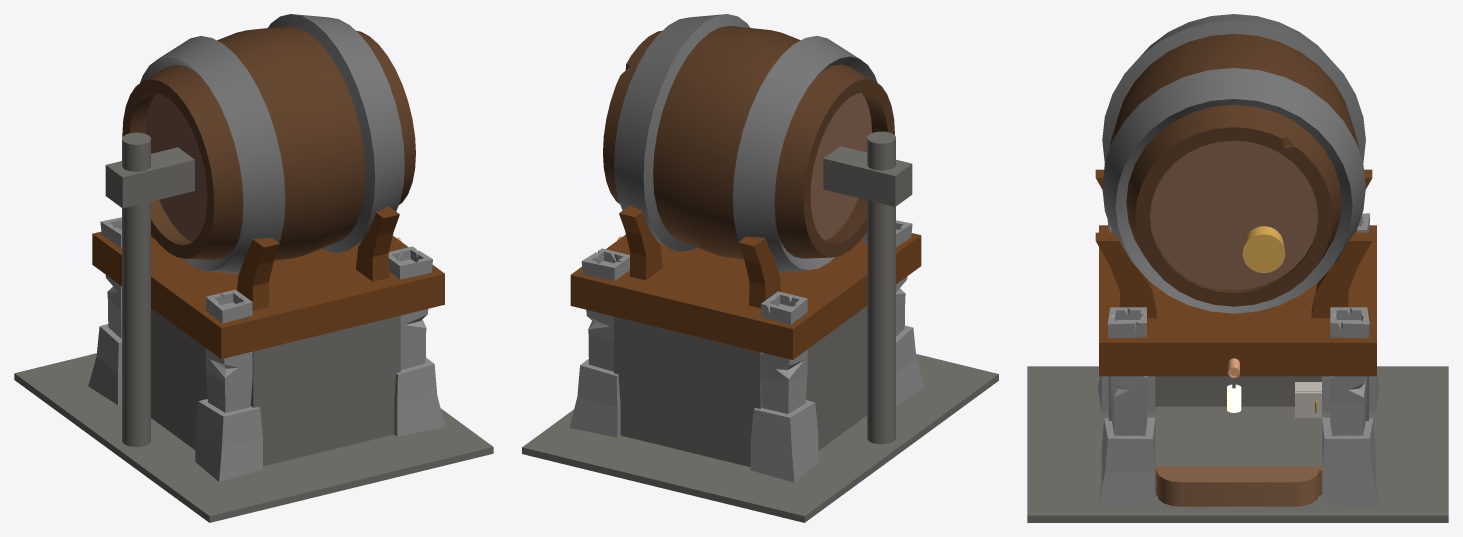
File: Bar.glb
3 views of the same model, side by side, from view 1: azimuth 30°, elevation 25°; view 2: azimuth 150°, elevation 25°; view 3: azimuth 270°, elevation 25° (orthographic). The views are drawn at different scales.
Parts seen in each view (by area): view 1: Cylinder, Cube.002, Cube.004, Cube.030, Cube.001, Cylinder.001, Cube.003, Cube, Cube.033, Cube.032, Cube.031; view 2: Cylinder, Cube.002, Cube.004, Cube.030, Cube.001, Cylinder.001, Cube.003, Cube, Cube.033, Cube.031, Cube.032; view 3: Cylinder, Cube.002, Cube.004, Cube, Cube.005, Cube.031, Cube.003, Cube.001, Cube.034.
Boxes of the visible parts, x1,y1,x2,y2 form: Cylinder: (122, 14, 415, 274); Cube.002: (14, 353, 493, 522); Cube.004: (92, 231, 444, 359); Cube.030: (250, 315, 400, 466); Cube.001: (88, 217, 262, 481); Cylinder.001: (122, 132, 150, 446); Cube.003: (151, 308, 207, 449); Cube: (388, 246, 444, 436); Cube.033: (105, 147, 194, 208); Cube.032: (151, 234, 279, 310); Cube.031: (355, 206, 399, 281); Cylinder: (603, 14, 894, 272); Cube.002: (522, 354, 998, 522); Cube.004: (570, 233, 921, 359); Cube.030: (614, 316, 762, 466); Cube.001: (750, 220, 924, 482); Cylinder.001: (867, 131, 895, 444); Cube.003: (806, 306, 867, 450); Cube: (569, 248, 629, 437); Cube.033: (823, 146, 912, 206); Cube.031: (619, 205, 662, 280); Cube.032: (738, 236, 862, 308); Cylinder: (1102, 14, 1365, 313); Cube.002: (1027, 366, 1448, 522); Cube.004: (1099, 225, 1376, 376); Cube: (1098, 307, 1379, 507); Cube.005: (1155, 466, 1322, 506); Cube.031: (1095, 232, 1372, 318); Cube.003: (1155, 376, 1321, 406); Cube.001: (1097, 213, 1379, 412); Cube.034: (1295, 382, 1321, 417).
Bounding box in the file's own units: 19.38 × 24.55 × 22.79.
